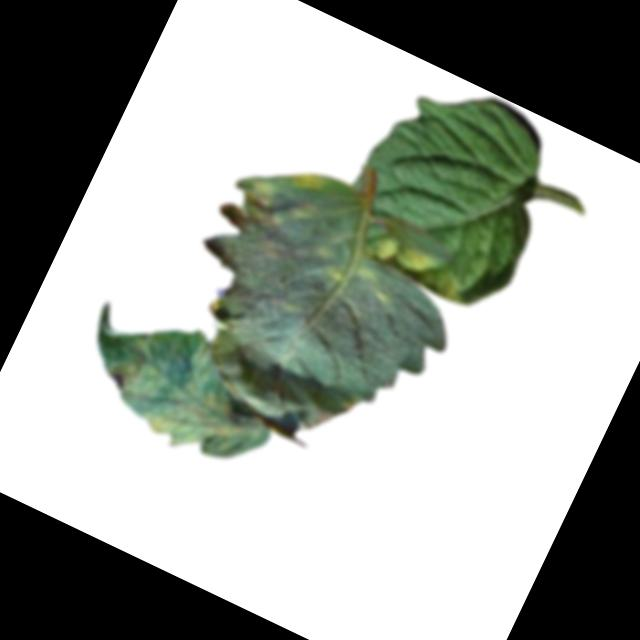Leaf_Mold: (144, 328, 271, 471), (213, 167, 317, 267), (361, 222, 475, 305), (99, 346, 170, 410), (286, 162, 328, 200)
